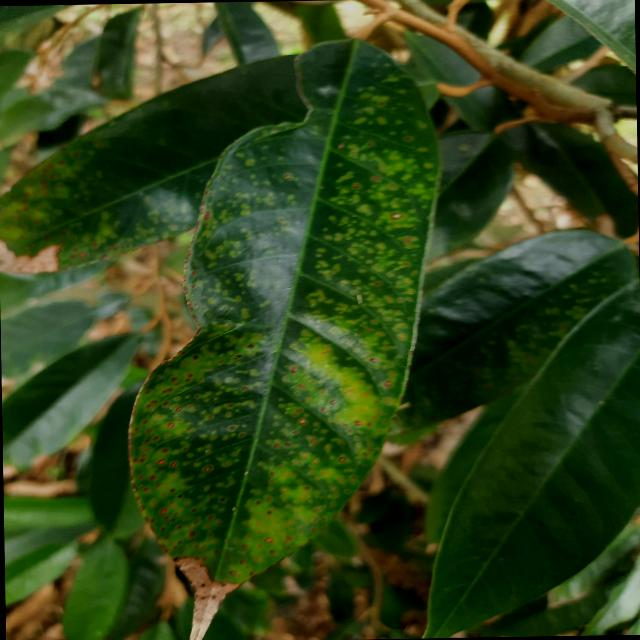Leaf Spot: (112, 22, 451, 639)
